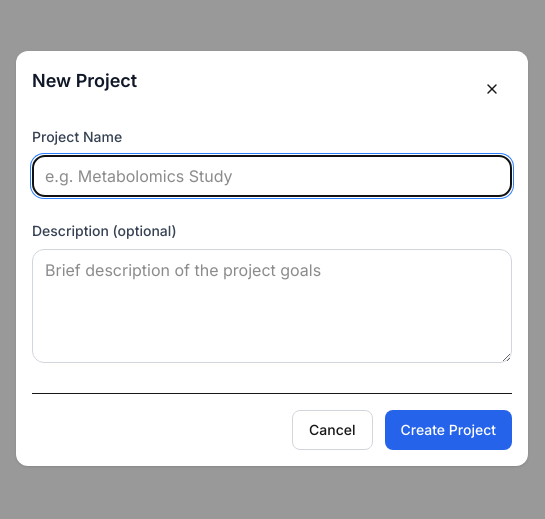
Test case: NewProjectDialog › displays error message when creation fails
The width and height of the screenshot is (545, 519).
Type "Test Project" into the field with placeholder "e.g. Metabolomics Study".
click(272, 176); type("Test Project")  # box [32, 154, 512, 196]
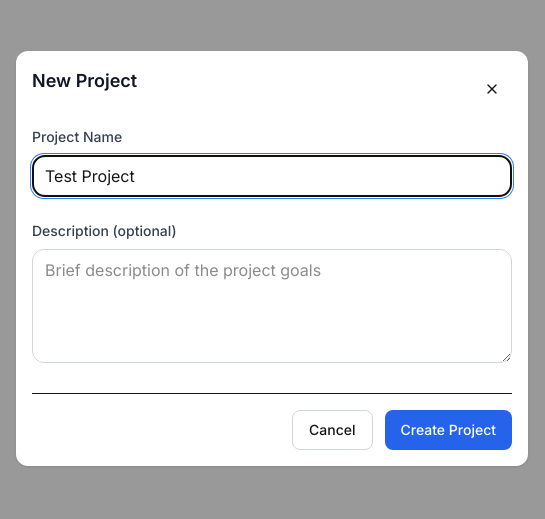
Click the button "Create Project".
click(448, 430)  # box [384, 410, 512, 450]
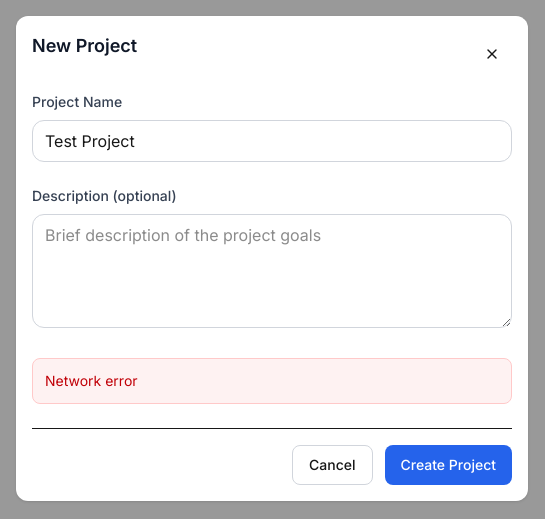
Result: the text "Network error" is shown at [32, 358, 512, 404]
